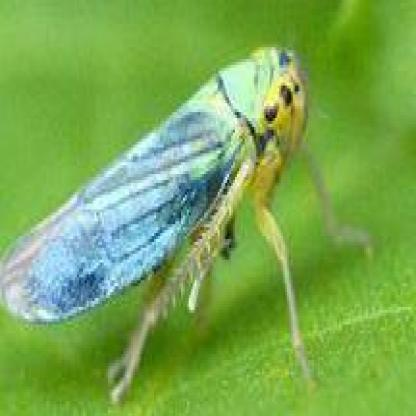Green-Leafhopper: (0, 42, 372, 411)
